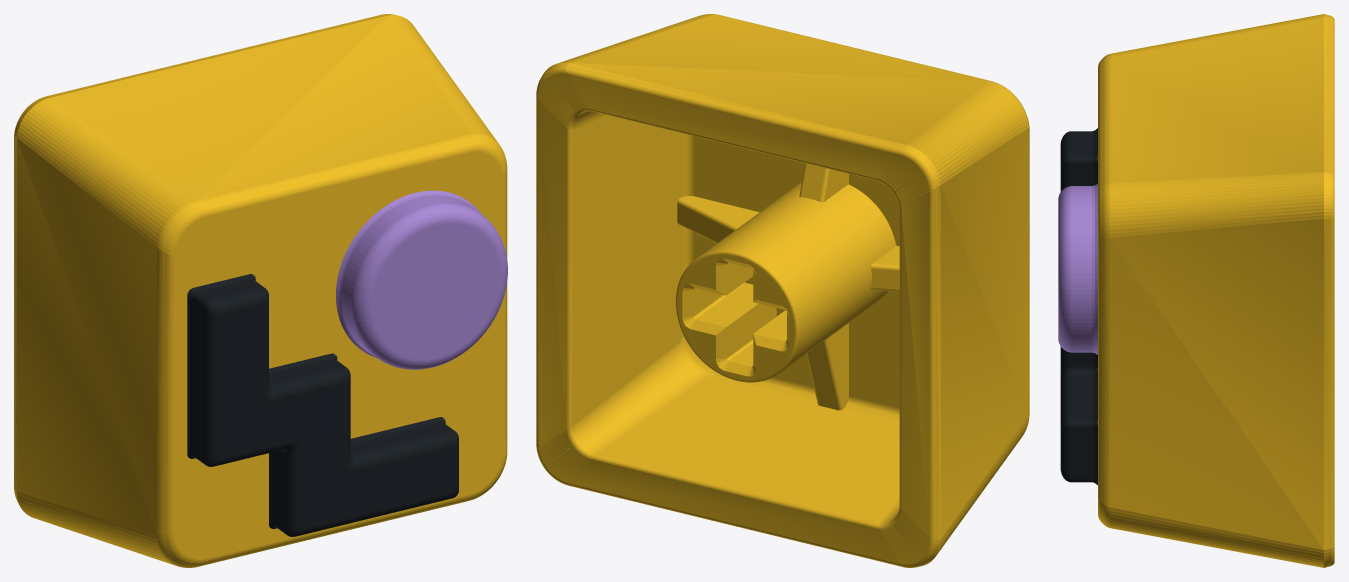
File: 02_ZIGZAG_CYLINDER.obj
The picture shows the model from 3 angles, left to right: view 1: azimuth 30°, elevation 25°; view 2: azimuth 150°, elevation 25°; view 3: azimuth 270°, elevation 25°; orthographic projection. The views are drawn at different scales.
Parts seen in each view (by area): view 1: Color_copy_|_ZIGZAG_|_hollow_1u_shell; view 2: Color_copy_|_ZIGZAG_|_hollow_1u_shell; view 3: Color_copy_|_ZIGZAG_|_hollow_1u_shell.
Boxes of the visible parts, x1,y1,x2,y2 form: Color_copy_|_ZIGZAG_|_hollow_1u_shell: [14, 14, 507, 567]; Color_copy_|_ZIGZAG_|_hollow_1u_shell: [536, 14, 1029, 567]; Color_copy_|_ZIGZAG_|_hollow_1u_shell: [1058, 14, 1334, 567].
Bounding box in the file's own units: 18 × 18 × 11.45.
1 material, 1 textured.
